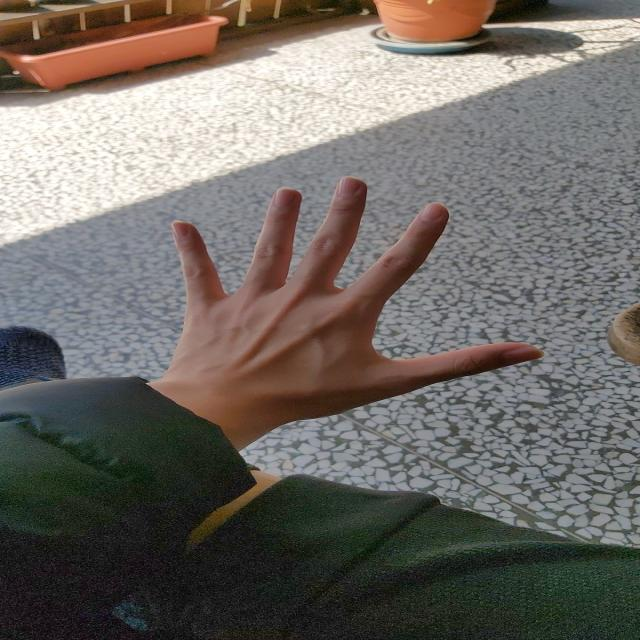no_glove: (145, 174, 560, 439)
